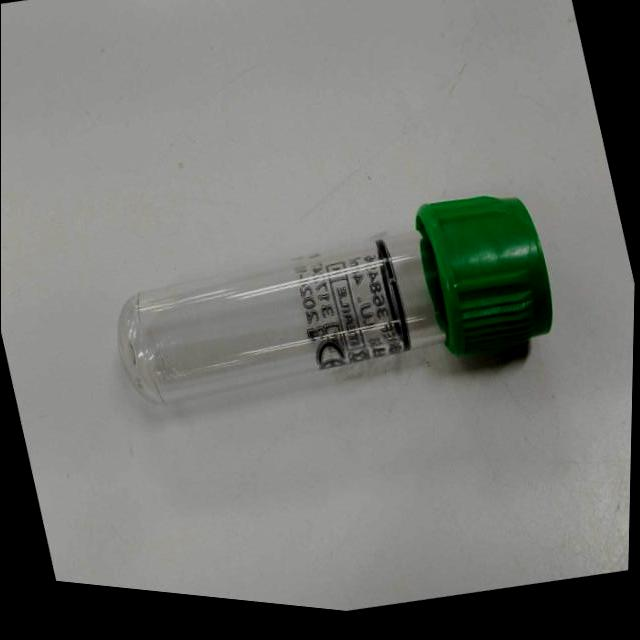General: (289, 238, 411, 372)
Pathological: (3, 1, 634, 613)
Sharps: (117, 194, 554, 408)
